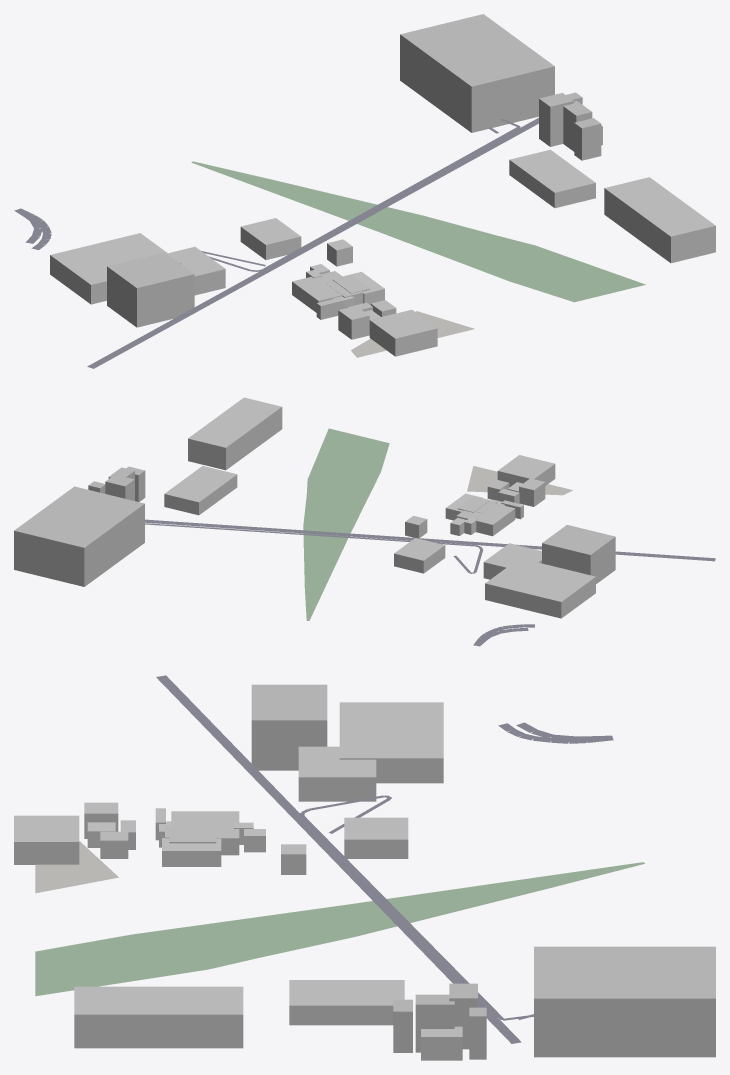
File: 134_95_mid.glb
3 renders of one model, top to bottom at view 1: azimuth 30°, elevation 25°; view 2: azimuth 150°, elevation 25°; view 3: azimuth 270°, elevation 25°, orthographic. The views are drawn at different scales.
Size of the model in its own units: 574 by 46.16 by 445.
